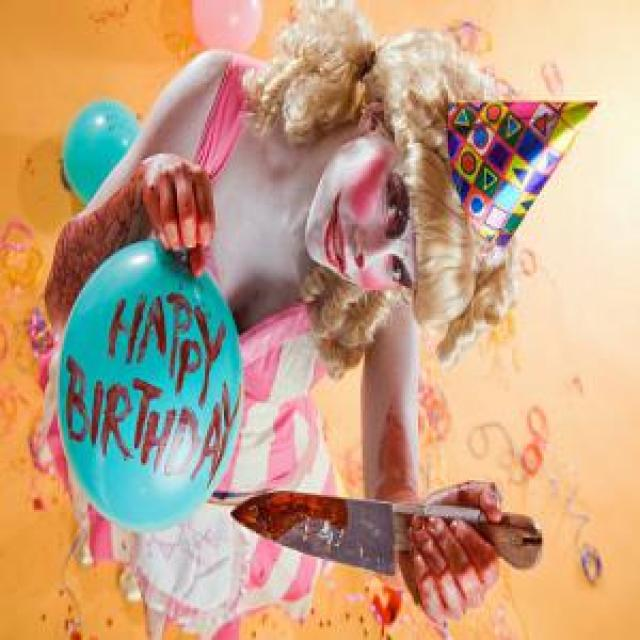knife: (235, 491, 543, 579)
